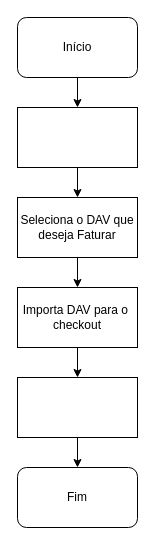
Some shapes in this 155 by 545 pixel diagram are drawn without their labels. The shapes that lost their labels are listed below. From the top down, each one's box as (x1, y1, x2, y2) in pixels, then its label:
(16, 106, 138, 168): Clica no botão Importar DAV Na tela principal
(16, 376, 138, 438): Altera caso necessidade e checa os itens
